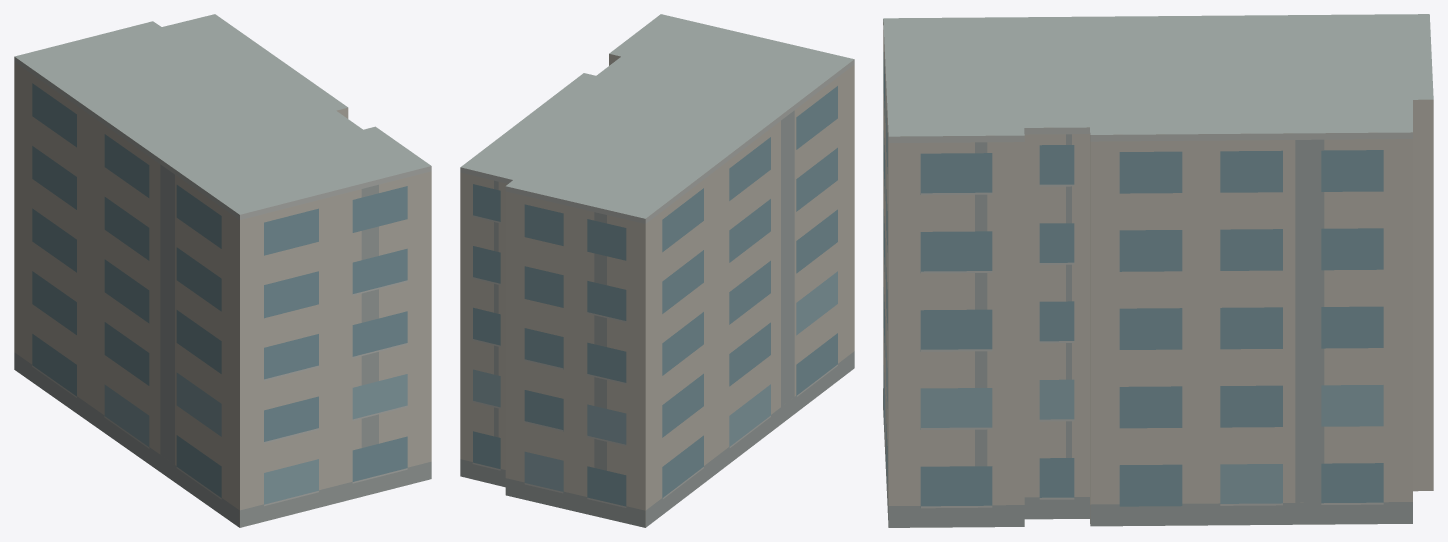
File: survey-upis-32606367.glb
3 renders of one model, left to right at view 1: azimuth 30°, elevation 25°; view 2: azimuth 150°, elevation 25°; view 3: azimuth 270°, elevation 25°, orthographic. The views are drawn at different scales.
Parts seen in each view (by area): view 1: survey-upis-32606367.tmp; view 2: survey-upis-32606367.tmp; view 3: survey-upis-32606367.tmp.
Part boxes in pixels (x1,y1,x2,y2): survey-upis-32606367.tmp: [14, 14, 431, 527]; survey-upis-32606367.tmp: [460, 14, 854, 527]; survey-upis-32606367.tmp: [883, 14, 1433, 527].
Size of the model in its own units: 9.75 by 14.5 by 18.49.
